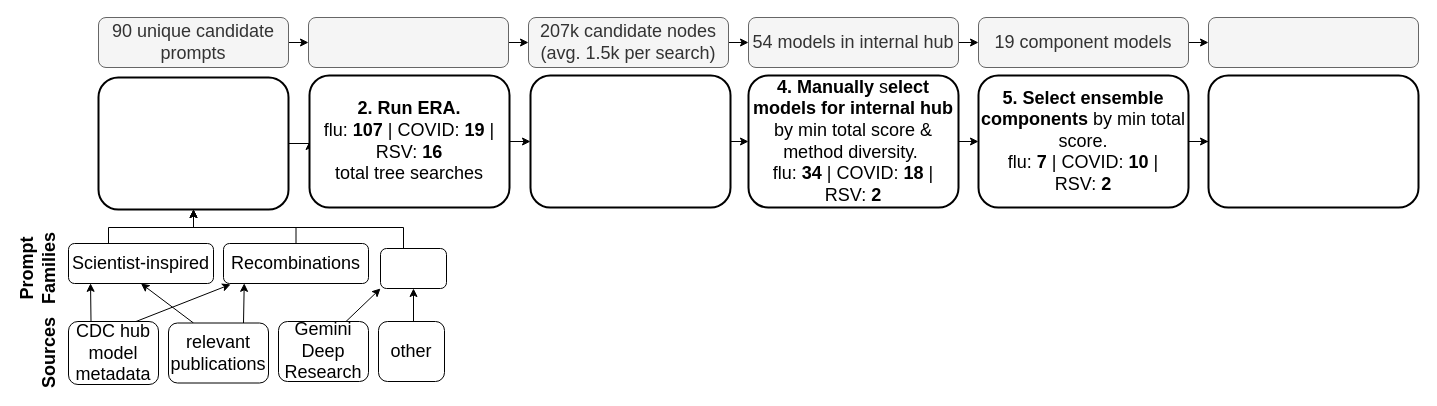
Image size: 1437x406. Some labels were removed from this diagram. The shapes that lost their labels are listed below. From the top down, each one's centre as x and y in pixels, then its label:
At (x=408, y=42): "142 ERA searches".
At (x=1313, y=42): "3 ensemble forecasts".
At (x=193, y=143): "1. Collect candidate prompts. flu: 56 | COVID: 19 | RSV: 14 unique instructions".
At (x=630, y=141): "3. Select best node per search based on min total score.".
At (x=1313, y=141): "6. Submit final ensemble forecasts to CDC hubs . flu: 1 | COVID: 1 | RSV: 1".
At (x=413, y=268): "AI-led".
